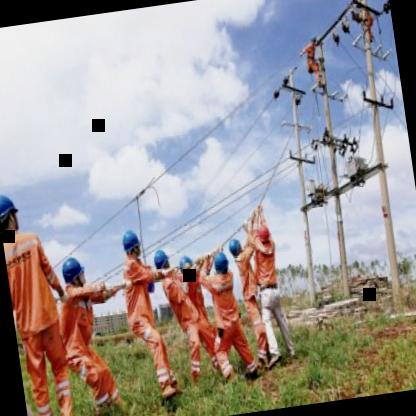helmet: (57, 252, 88, 290), (0, 185, 22, 238), (118, 225, 146, 262), (174, 251, 198, 284), (150, 246, 172, 280), (226, 232, 248, 265), (209, 247, 230, 277), (253, 218, 274, 248)
